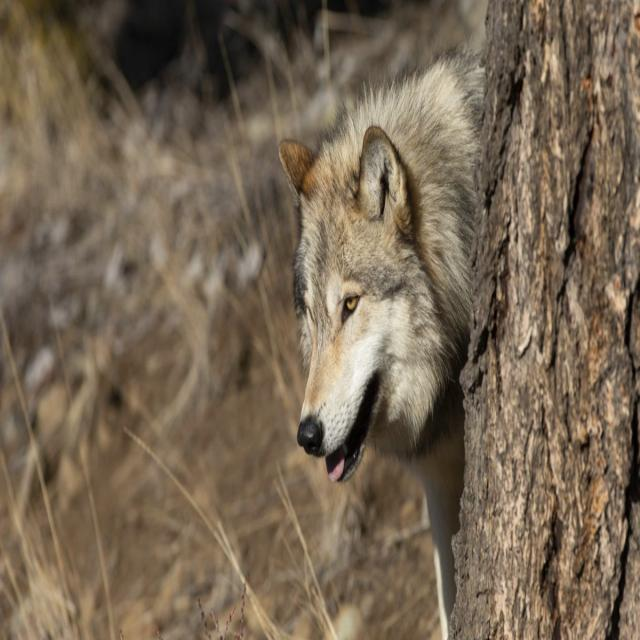wolf: (278, 51, 484, 635)
